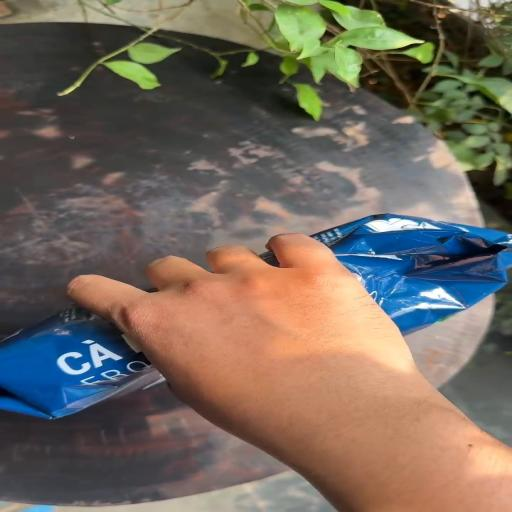cafe_hat: (312, 214, 511, 335), (0, 305, 162, 419)
